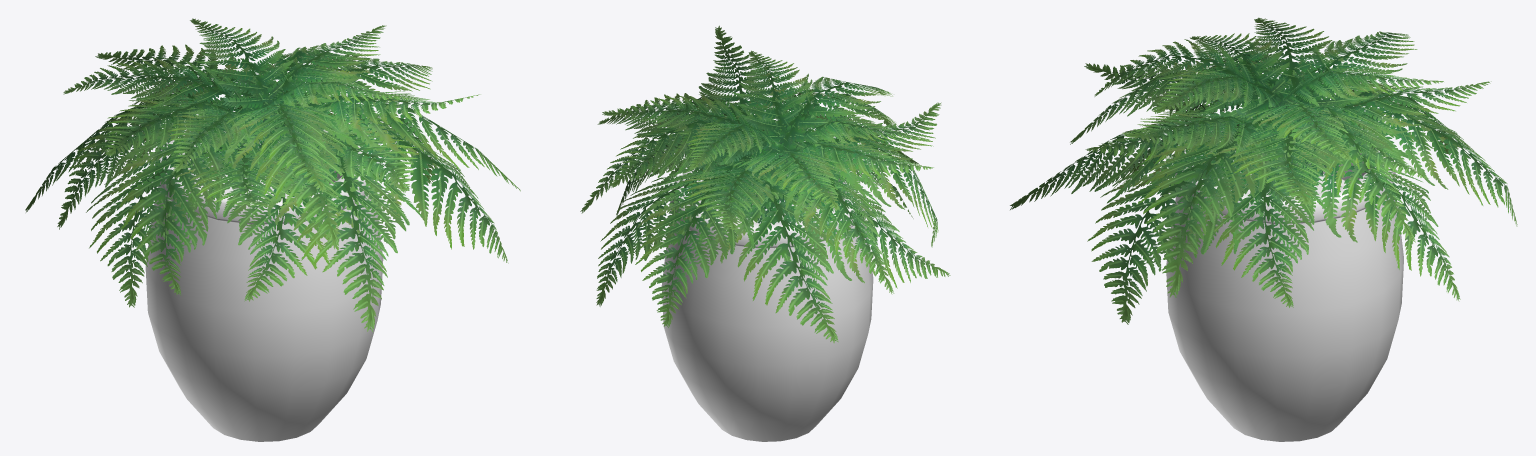
File: SM_Potted_Fern_A.fbx
3 renders of one model, left to right at view 1: azimuth 30°, elevation 25°; view 2: azimuth 150°, elevation 25°; view 3: azimuth 270°, elevation 25°, orthographic. The views are drawn at different scales.
Parts seen in each view (by area): view 1: SM_Potted_Fern_A_LOD0; view 2: SM_Potted_Fern_A_LOD0; view 3: SM_Potted_Fern_A_LOD0.
Boxes of the visible parts, <box> form: SM_Potted_Fern_A_LOD0: <box>25,18,520,441</box>; SM_Potted_Fern_A_LOD0: <box>580,25,950,441</box>; SM_Potted_Fern_A_LOD0: <box>1010,17,1517,441</box>.
Size of the model in its own units: 123 by 141 by 105.
Materials: 2 (1 with a texture image).
